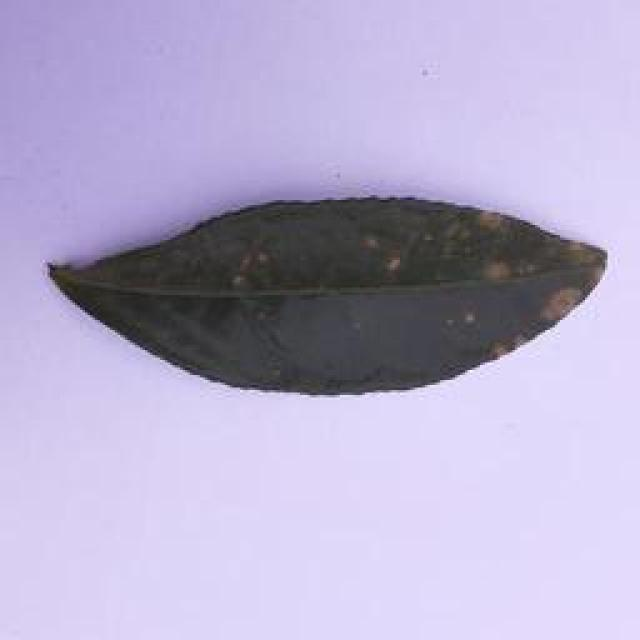Algal Leaf Spot: (47, 166, 603, 414)
